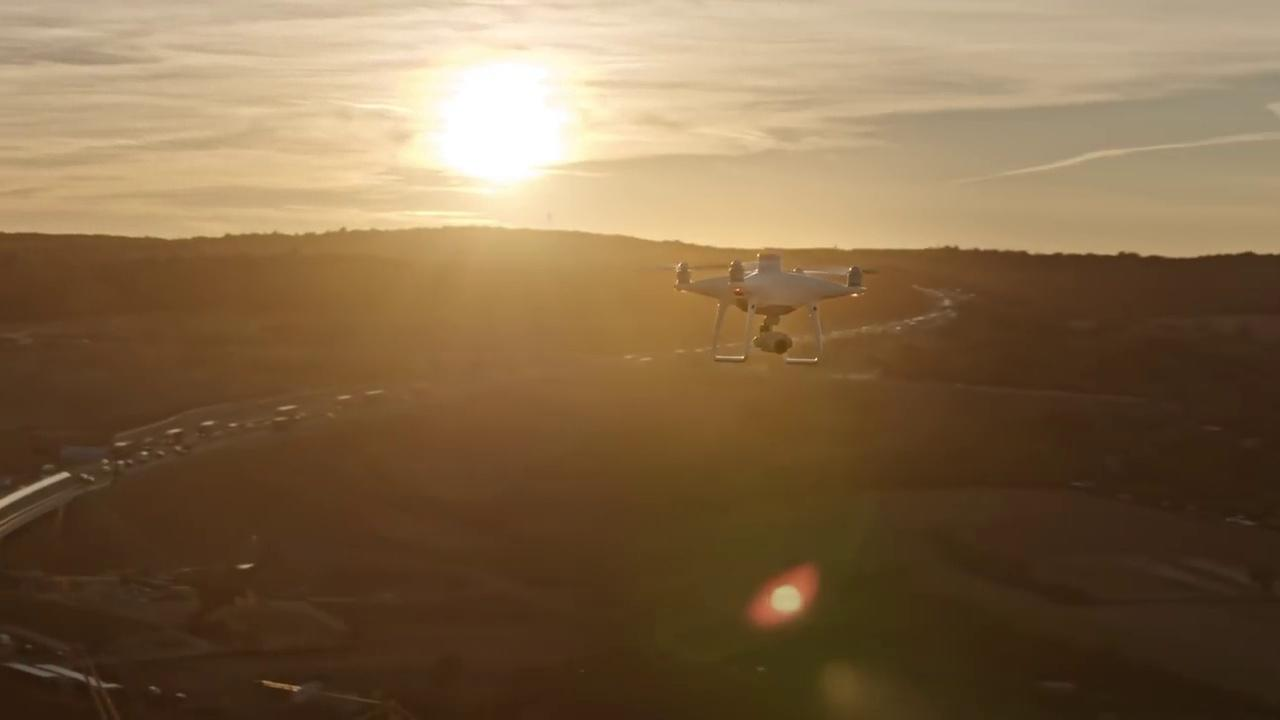drone: (643, 249, 888, 368)
